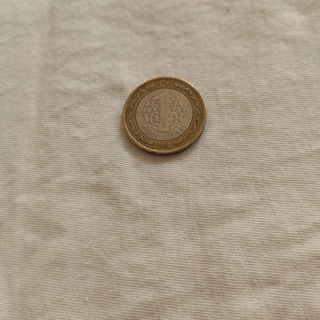1TL: (120, 75, 207, 157)
